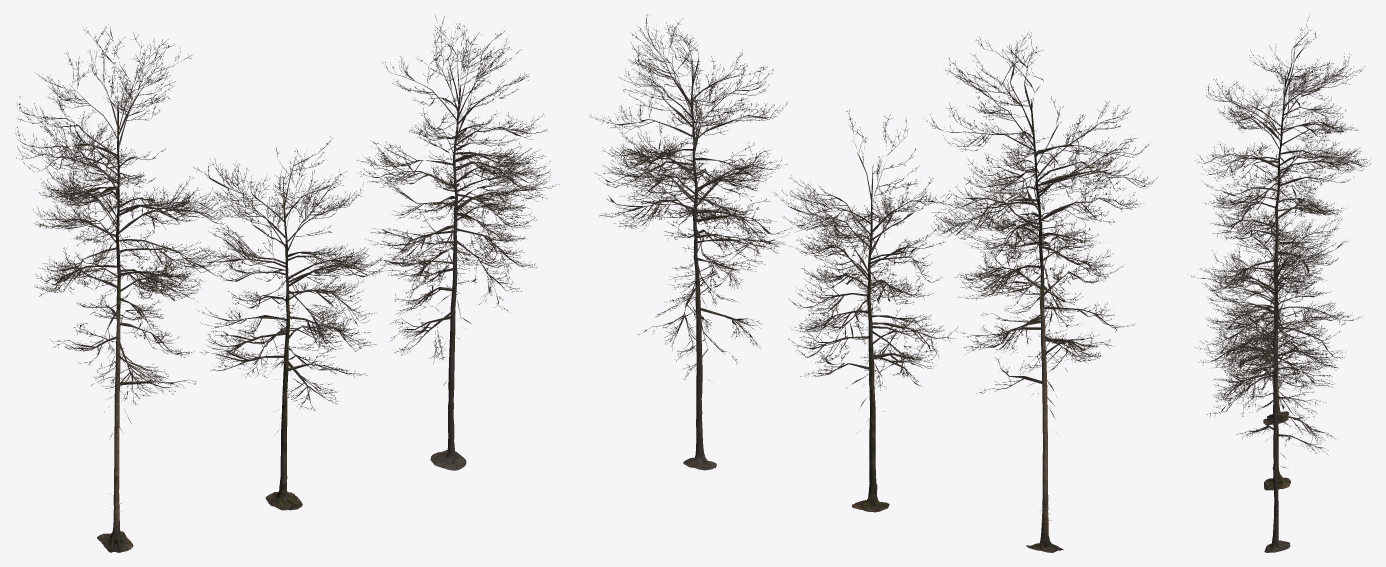
Rendered from pine_tree_01_mid.glb.
3 views of the same model, side by side, from view 1: azimuth 30°, elevation 25°; view 2: azimuth 150°, elevation 25°; view 3: azimuth 270°, elevation 25° (orthographic). The views are drawn at different scales.
Size of the model in its own units: 21.68 by 20.31 by 8.38.
6 materials, 6 textured.
